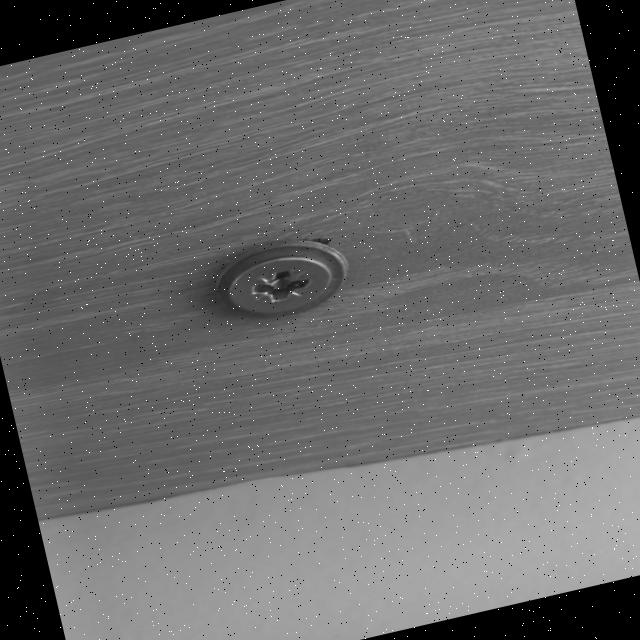Pozidriv: (229, 248, 336, 326)
